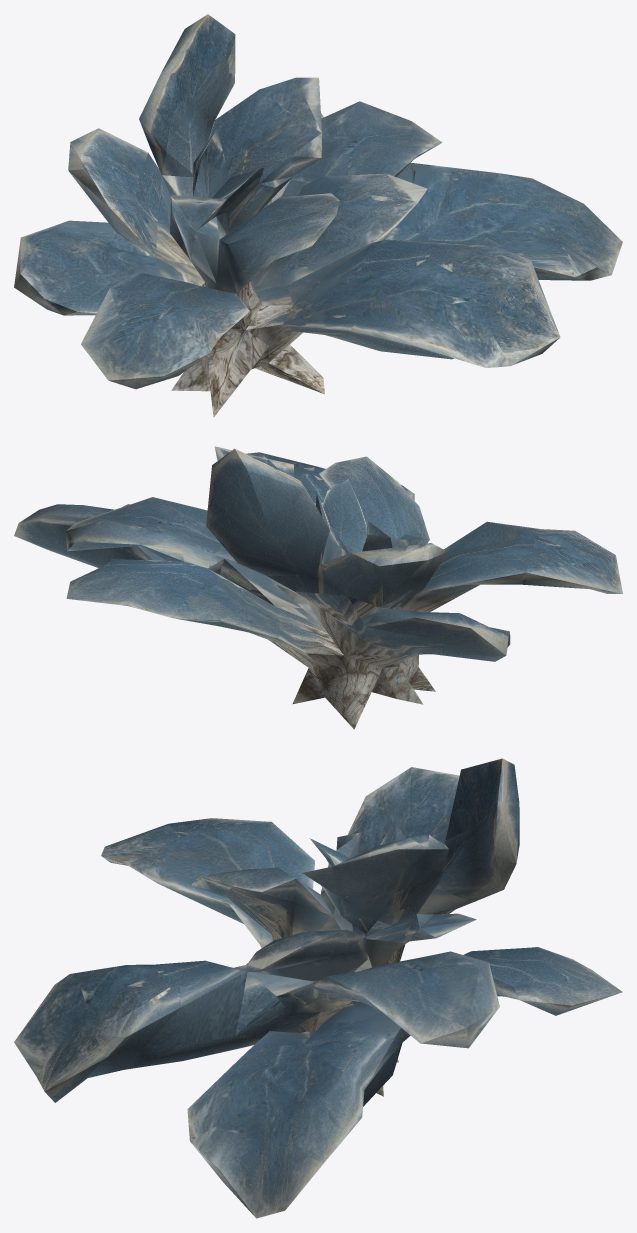
File: fc_low_cushionplant_lod1.glb
3 renders of one model, top to bottom at view 1: azimuth 30°, elevation 25°; view 2: azimuth 150°, elevation 25°; view 3: azimuth 270°, elevation 25°, orthographic. The views are drawn at different scales.
Visible parts, largest first — view 1: mesh; view 2: mesh; view 3: mesh.
Part boxes in pixels (x1=…): mesh: x1=14, y1=14, x2=622, y2=417; mesh: x1=14, y1=446, x2=622, y2=729; mesh: x1=14, y1=758, x2=622, y2=1218.
Size of the model in its own units: 1.93 by 0.9701 by 1.54.
Materials: 1 (1 with a texture image).
